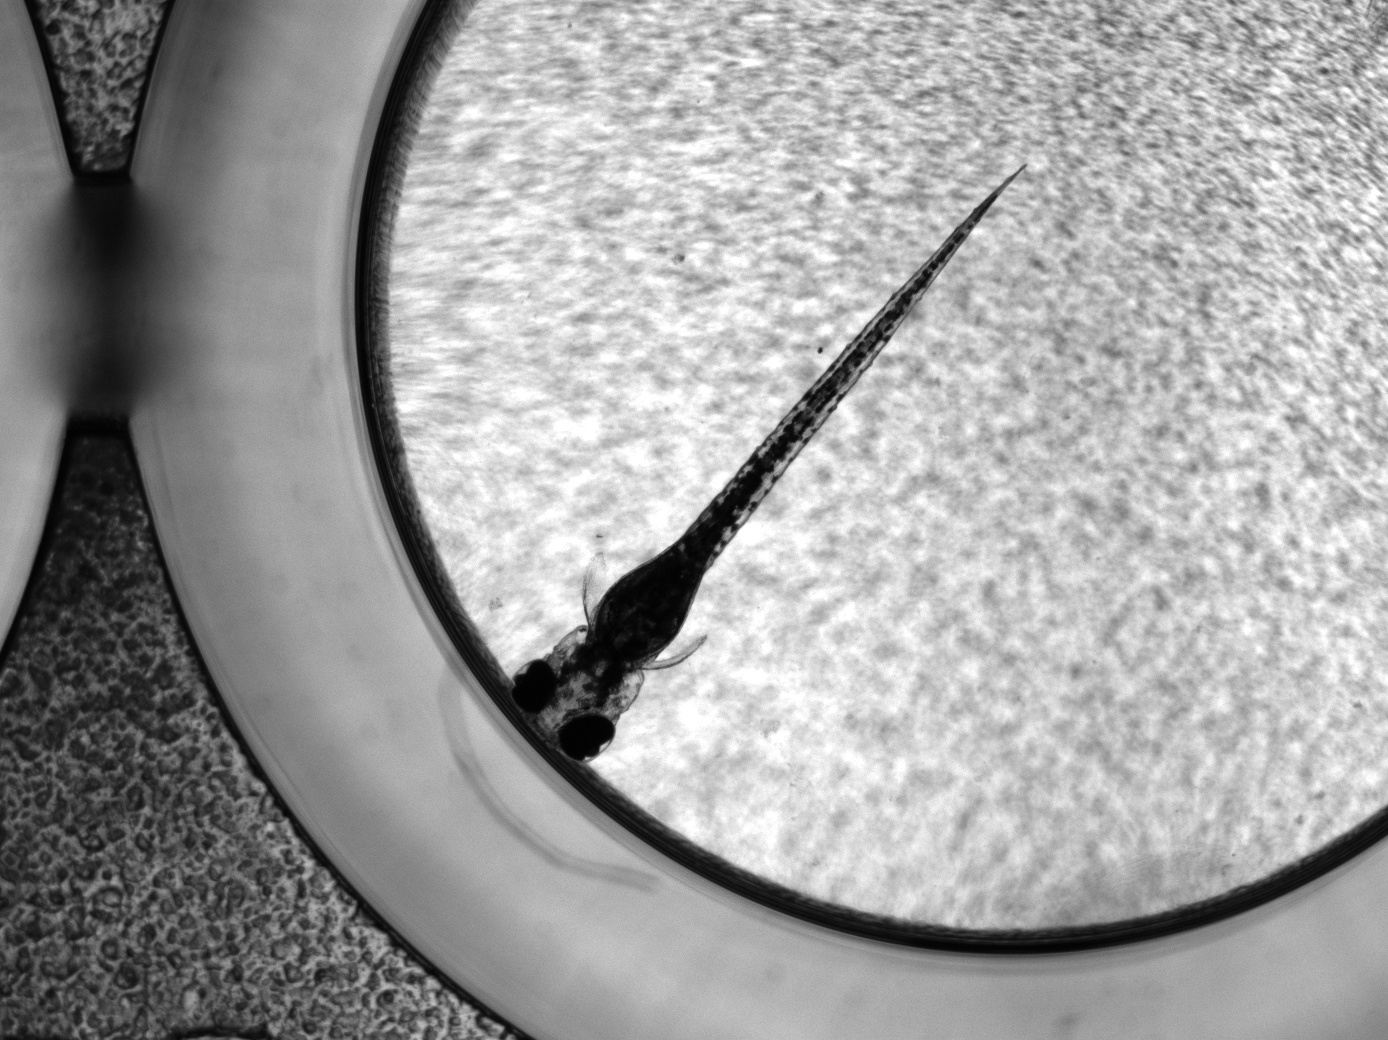embryo: (511, 161, 1028, 764)
eye: (557, 714, 615, 763), (512, 659, 556, 713)
yolksac: (591, 564, 689, 662)
